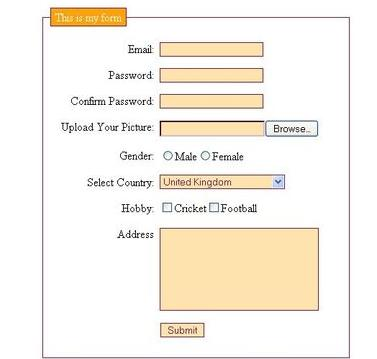button: (266, 119, 319, 137), (159, 323, 204, 338)
checkbox: (161, 201, 173, 213), (209, 201, 220, 213)
checkbox_with_label: (122, 200, 174, 215), (208, 200, 258, 214), (159, 200, 205, 214)
field: (157, 226, 319, 311), (159, 174, 287, 190), (156, 120, 266, 137), (157, 41, 264, 58), (158, 67, 265, 84), (157, 93, 264, 109)
field_with_label: (117, 225, 321, 312), (62, 118, 268, 139), (71, 92, 265, 111), (109, 65, 266, 86), (127, 40, 264, 59)
radio: (162, 150, 173, 161), (200, 150, 210, 160)
radio_with_label: (120, 149, 175, 162), (199, 149, 245, 162), (160, 148, 196, 162)
